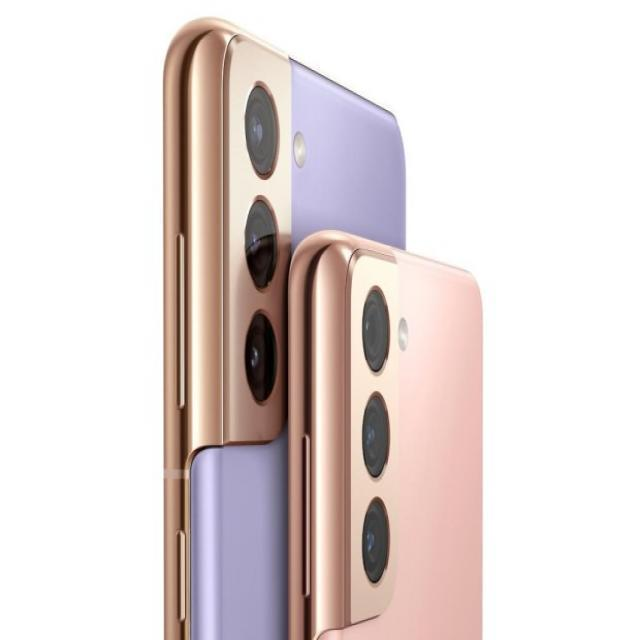phone: (157, 16, 482, 640)
